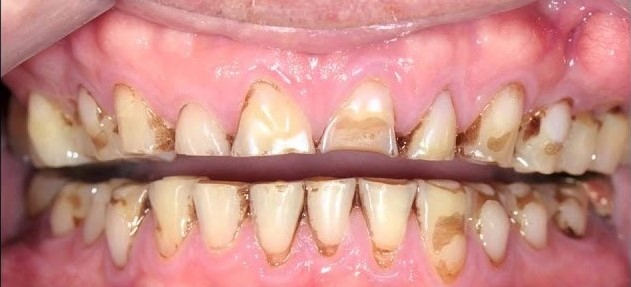LL1BC_mdecay: (471, 181, 510, 266)
LL1M_mdecay: (550, 178, 590, 244)
LL2BC_mdecay: (508, 181, 550, 250)
LLCI_mdecay: (306, 175, 356, 257)
LLC_sdecay: (415, 177, 470, 283)
LLLI_mdecay: (360, 172, 419, 270)
LR1BC_mdecay: (107, 183, 149, 269)
LR1M_mdecay: (54, 182, 84, 235)
LR2BC_mdecay: (81, 180, 110, 246)
LR2M_healthy: (27, 176, 55, 218)
LRCI_mdecay: (250, 179, 306, 270)
LRC_mdecay: (147, 175, 197, 261)
LRLI_mdecay: (192, 179, 250, 253)
UL1BC_sdecay: (520, 97, 572, 175)
UL2BC_mdecay: (569, 112, 622, 175)
ULCI_sdecay: (319, 79, 400, 158)
ULC_sdecay: (460, 82, 524, 168)
ULLI_sdecay: (406, 87, 459, 163)
UR1BC_mdecay: (76, 89, 124, 166)
UR2BC_mdecay: (27, 96, 81, 170)
URCI_mdecay: (234, 80, 317, 158)
URC_mdecay: (113, 81, 174, 161)
URLI_mdecay: (173, 103, 231, 159)
